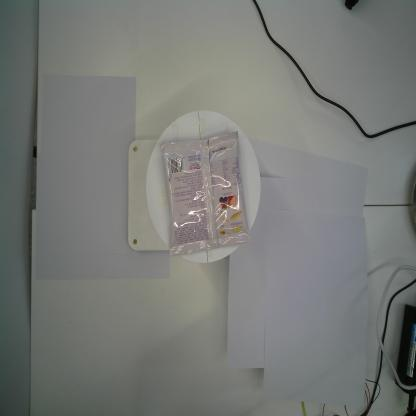Instant Drink: (160, 130, 251, 256)
